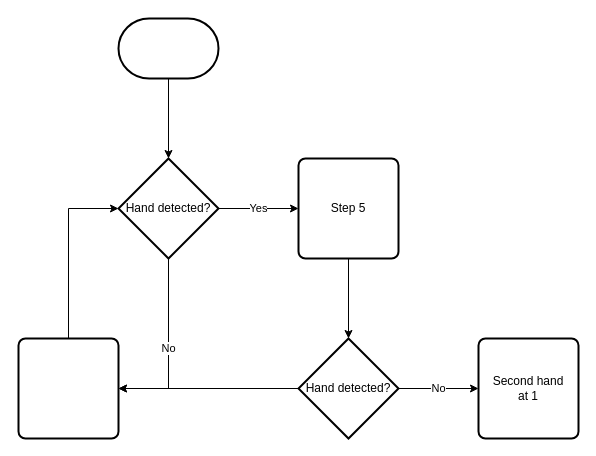
Image size: 596x456. Some labels were removed from this diagram. The shapes that lost their labels are listed below. From the top down, each one's centre as x and y in pixels, then its label:
point 168,48: Start
point 68,388: Step 1
